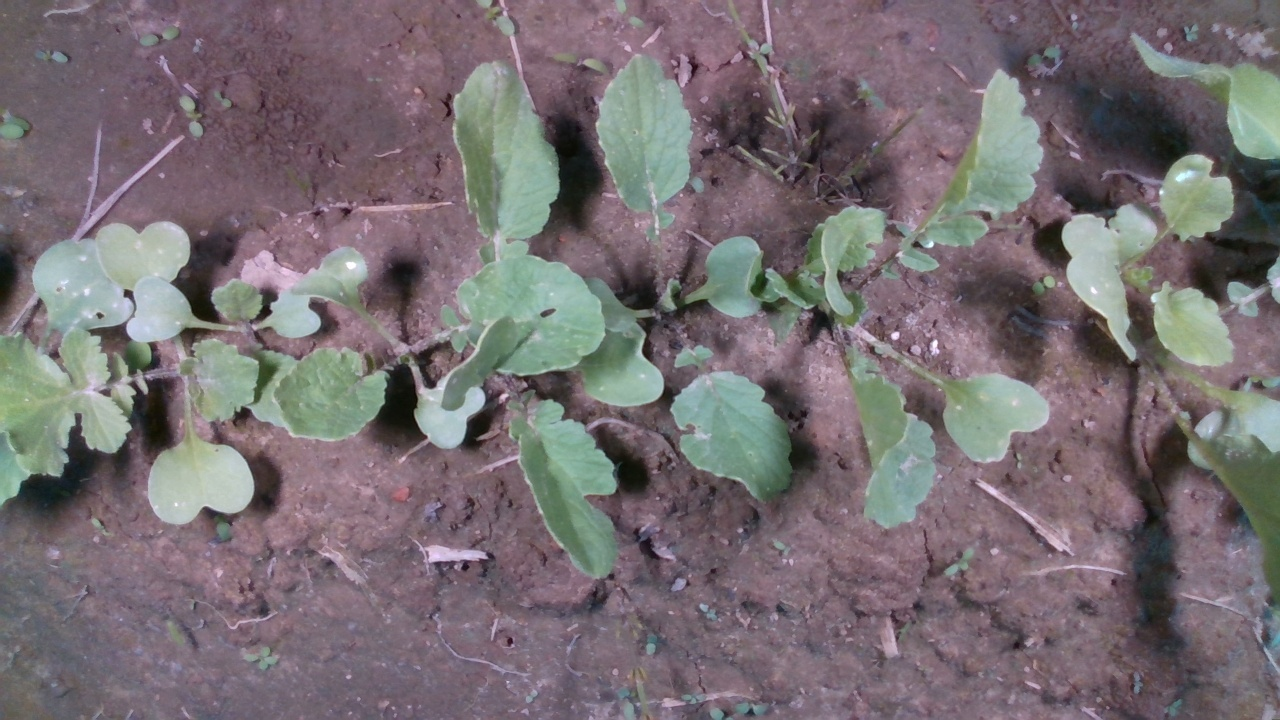weed: (549, 52, 611, 77), (177, 93, 204, 138), (240, 644, 280, 671), (942, 547, 975, 578), (138, 24, 180, 47), (1026, 44, 1065, 68), (90, 515, 115, 536), (1031, 275, 1057, 294), (34, 50, 69, 63), (212, 87, 232, 109), (643, 631, 657, 657), (1182, 23, 1201, 41)
